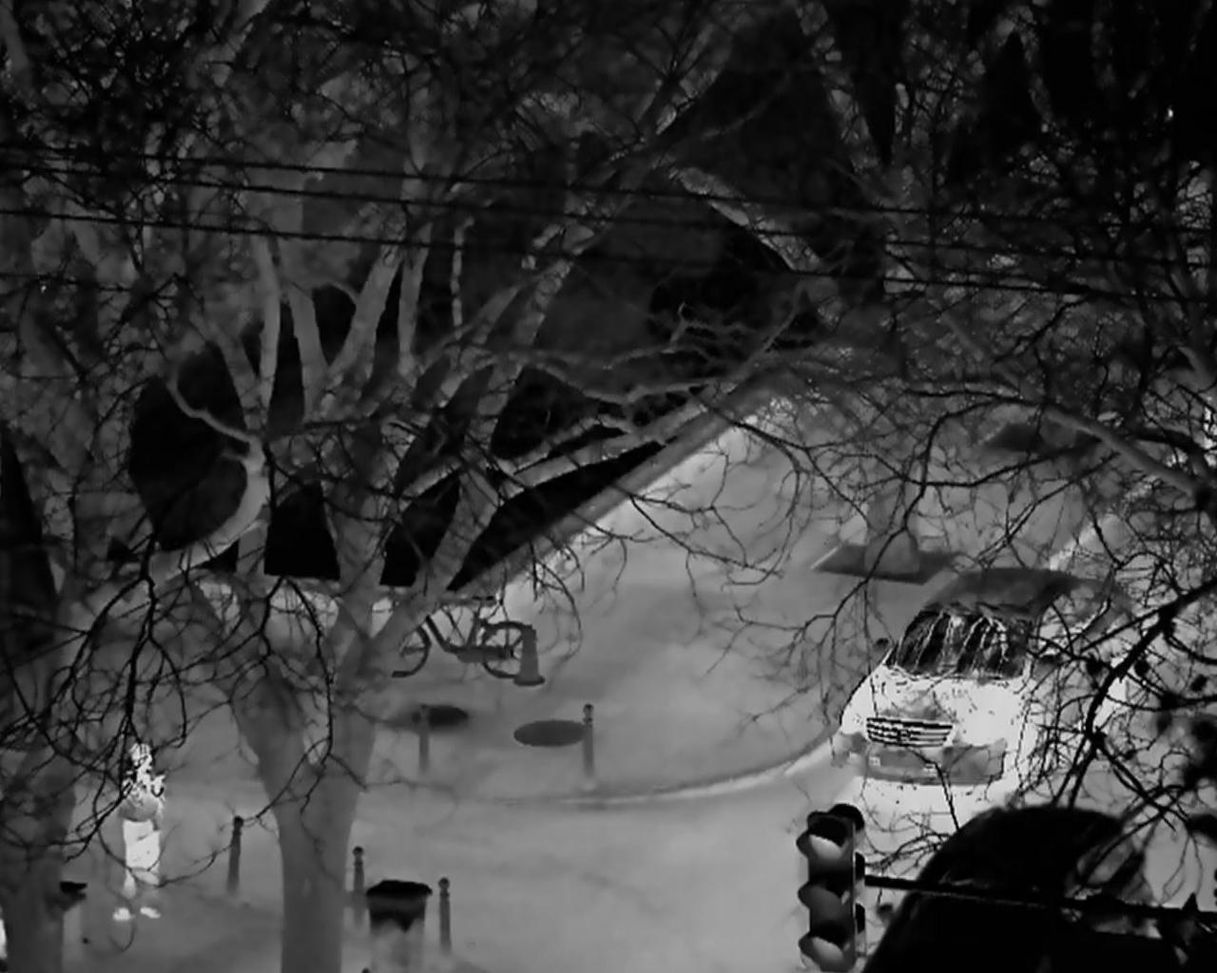person: (113, 737, 170, 924)
